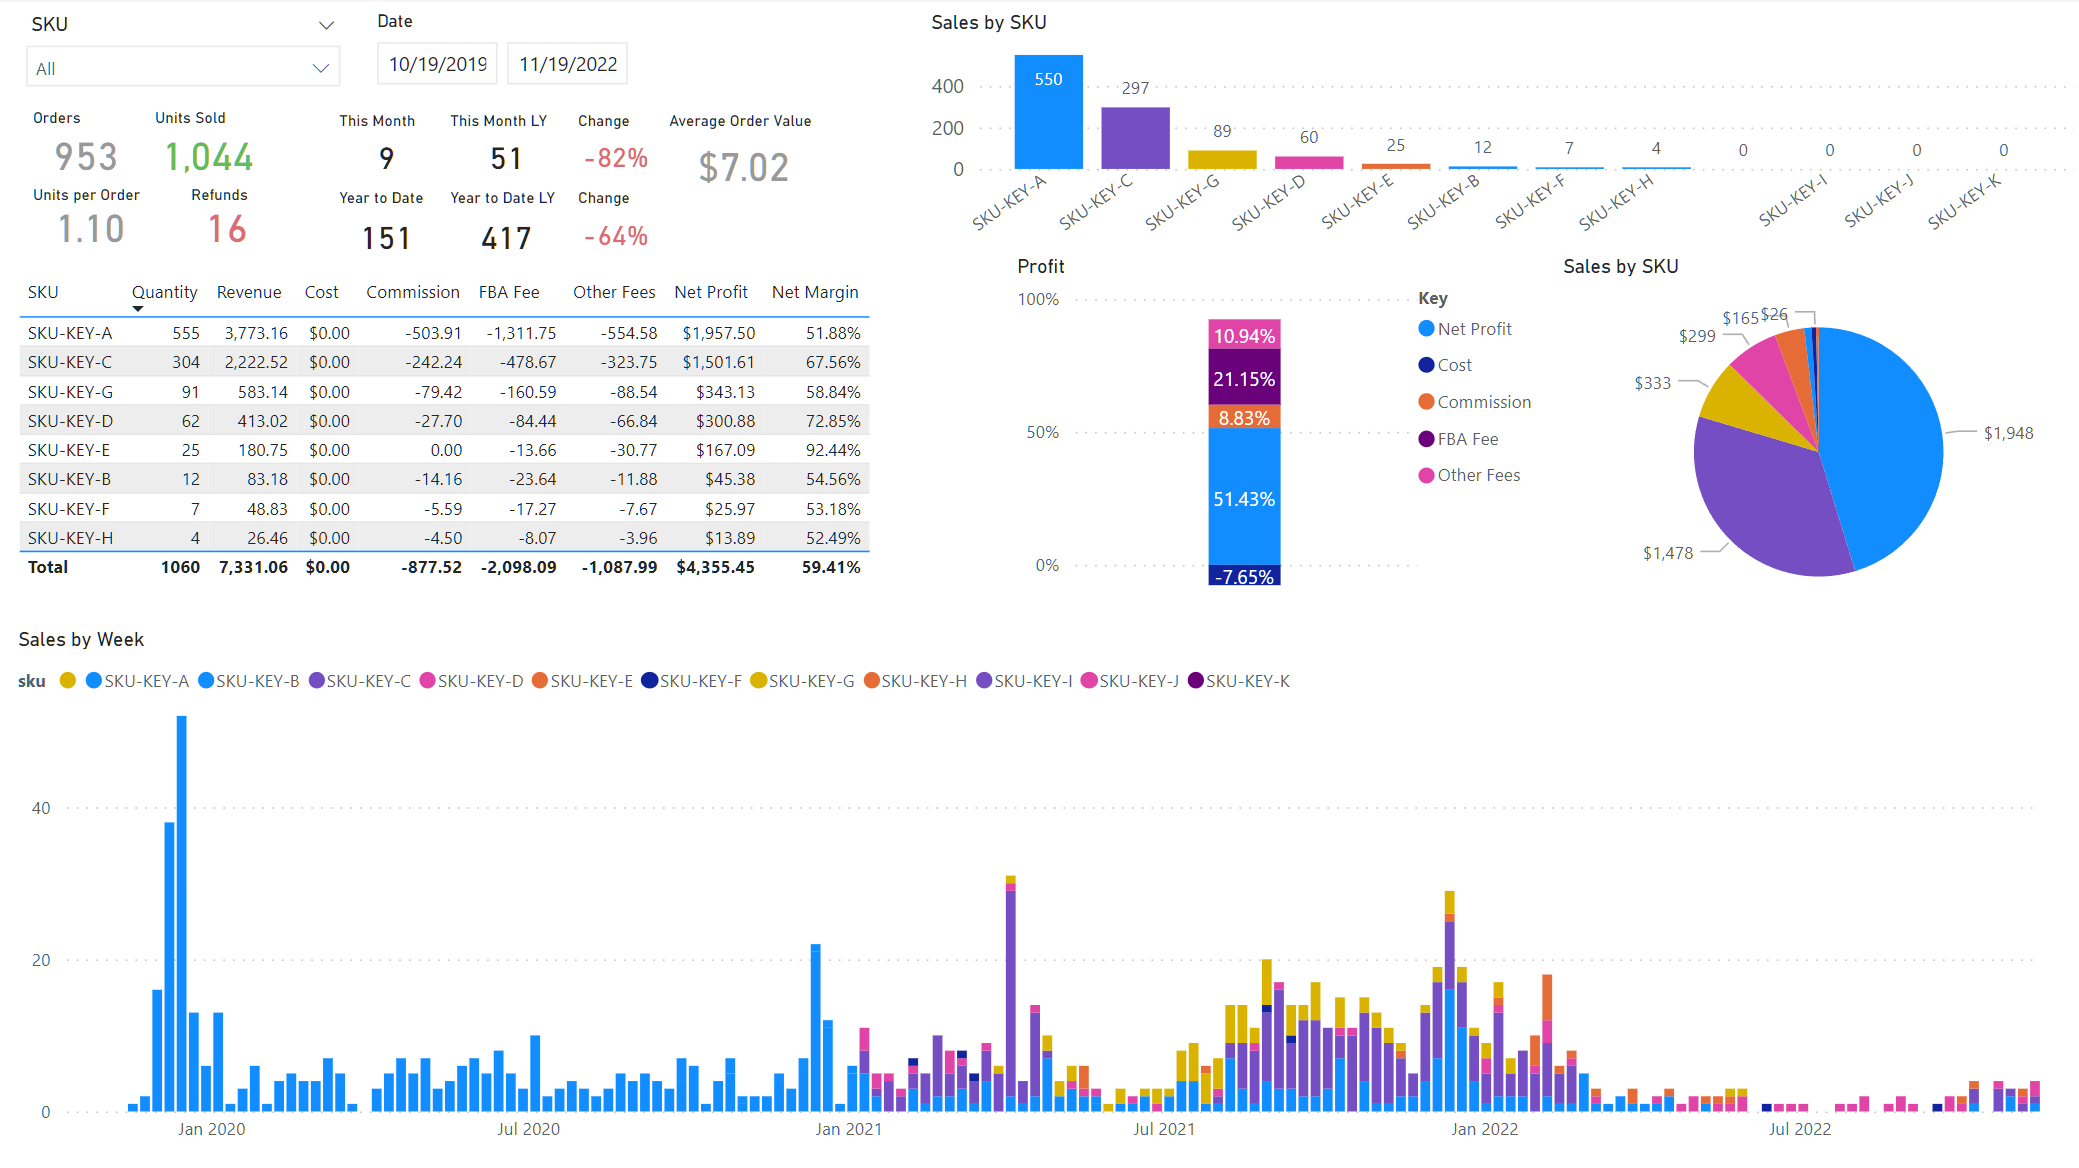

Layout of this report page (visuals, bound fields, positions):
{"tool":"powerbi","page":{"name":"Visualizations","canvas":[1280,720],"ordinal":0},"visuals":[{"type":"columnChart","title":"Sales by Week","fields":{"Series":["Amazon.sku"],"Y":["Amazon.Quantity Sold"],"Category":["Amazon.Start of Week"]},"box":[7.1,387.1,1269.5,325.8],"z":0},{"type":"slicer","fields":{"Values":["Amazon.sku"]},"box":[7.4,4.3,212.6,58.4],"z":1000},{"type":"slicer","fields":{"Values":["Calendar.Date"]},"box":[219.9,3.1,184.3,62.7],"z":2000},{"type":"card","title":"Units Sold","fields":{"Values":["Amazon.Quantity Sold"]},"box":[91.5,67.6,74.9,47.3],"z":3000},{"type":"card","title":"This Month","fields":{"Values":["Amazon.This Month"]},"box":[204.6,69.4,68.2,47.3],"z":4000},{"type":"card","title":"This Month LY","fields":{"Values":["Amazon.This Month LY"]},"box":[272.8,69.4,78.6,47.3],"z":5000},{"type":"card","title":"Year to Date","fields":{"Values":["Amazon.YTD"]},"box":[204.6,116.7,68.2,49.8],"z":6000},{"type":"card","title":"Year to Date LY","fields":{"Values":["Amazon.YTD LY"]},"box":[272.8,116.7,78.6,49.8],"z":7000},{"type":"card","title":"Refunds","fields":{"Values":["Amazon.Refunds"]},"box":[113.7,114.9,52.8,41.2],"z":8000},{"type":"card","title":"Change","fields":{"Values":["Amazon.Change % YTD LY"]},"box":[351.4,116.7,55.9,49.1],"z":9000},{"type":"card","title":"Change","fields":{"Values":["Amazon.Change % Month LY"]},"box":[351.4,69.4,55.9,47.3],"z":10000},{"type":"columnChart","title":"Sales by SKU","fields":{"Y":["Amazon.Quantity Sold"],"Category":["Amazon.sku"]},"box":[568.3,8,712,148.1],"z":11000},{"type":"card","title":"Average Order Value","fields":{"Values":["Amazon.Average Order Value"]},"box":[407.3,69.4,102,55.9],"z":12000},{"type":"card","title":"Units per Order","fields":{"Values":["Amazon.Units per Order"]},"box":[16.6,114.9,80.5,41.2],"z":13000},{"type":"card","title":"Orders","fields":{"Values":["Amazon.Total Orders"]},"box":[16.6,67.6,74.9,47.3],"z":14000},{"type":"hundredPercentStackedColumnChart","title":"Profit","fields":{"Y":["Amazon.net profit","Sum(Amazon.cost)","Amazon.Commission","Amazon.FBA Fee","Amazon.Other Fees"]},"box":[621.1,157.9,335.4,229.1],"z":15000},{"type":"tableEx","fields":{"Values":["Amazon.sku","Sum(Amazon.quantity)","Sum(Amazon.product sales)","Amazon.cost","Sum(Amazon.selling fees)","Sum(Amazon.fba fees)","Sum(Amazon.other transaction fees)","Amazon.net profit","Amazon.Net Margin"]},"box":[7.4,166.5,613.7,220.5],"z":16000},{"type":"pieChart","title":"Sales by SKU","fields":{"Category":["Amazon.sku"],"Y":["Amazon.Net Profit"]},"box":[956.5,157.9,323.8,229.1],"z":17000}]}

Visuals, with their boxes in screenshot pixels (x1, y1, x2, y2), scaled from the page's 1280x720 canvas onto the 2079x1168 screenshot:
"Sales by Week" columnChart: bbox(12, 628, 2073, 1156)
slicer - Amazon.sku: bbox(12, 7, 357, 102)
slicer - Calendar.Date: bbox(357, 5, 657, 107)
"Units Sold" card: bbox(149, 110, 270, 186)
"This Month" card: bbox(332, 113, 443, 189)
"This Month LY" card: bbox(443, 113, 571, 189)
"Year to Date" card: bbox(332, 189, 443, 270)
"Year to Date LY" card: bbox(443, 189, 571, 270)
"Refunds" card: bbox(185, 186, 270, 253)
"Change" card: bbox(571, 189, 662, 269)
"Change" card: bbox(571, 113, 662, 189)
"Sales by SKU" columnChart: bbox(923, 13, 2078, 253)
"Average Order Value" card: bbox(662, 113, 827, 203)
"Units per Order" card: bbox(27, 186, 158, 253)
"Orders" card: bbox(27, 110, 149, 186)
"Profit" hundredPercentStackedColumnChart: bbox(1009, 256, 1554, 628)
tableEx - Amazon.sku x Sum(Amazon.quantity): bbox(12, 270, 1009, 628)
"Sales by SKU" pieChart: bbox(1554, 256, 2078, 628)
